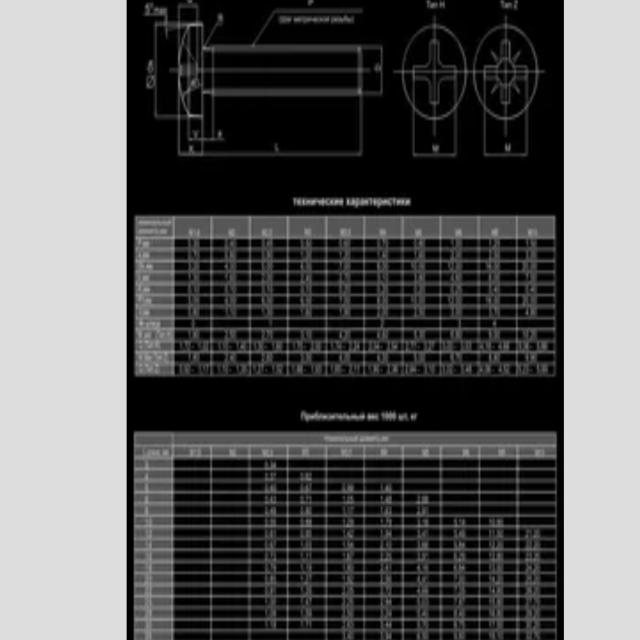marking_line: (204, 97, 365, 157), (253, 8, 363, 44), (154, 20, 178, 120), (412, 120, 458, 159), (479, 122, 530, 157), (362, 44, 383, 97), (177, 121, 201, 159), (204, 99, 224, 141), (205, 22, 222, 47), (187, 120, 202, 142)
